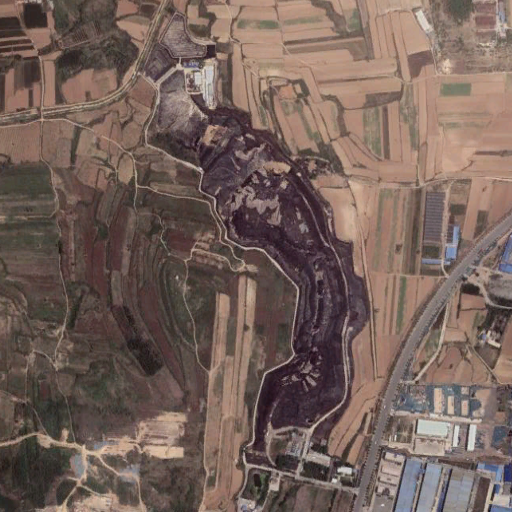lf: (146, 70, 371, 455)
